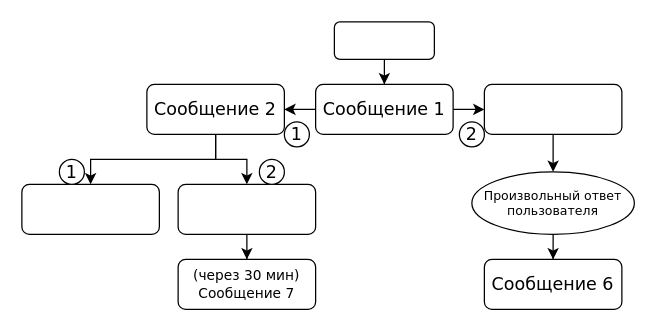
Image size: 656x331. Some labels were removed from this diagram. The box of each missing label's shape, as (x1, y1, x2, y2) in pixels:
/start: (333, 21, 434, 59)
Сообщение 3: (483, 83, 622, 134)
Сообщение 4: (21, 183, 159, 234)
Сообщение 5: (177, 183, 316, 234)
